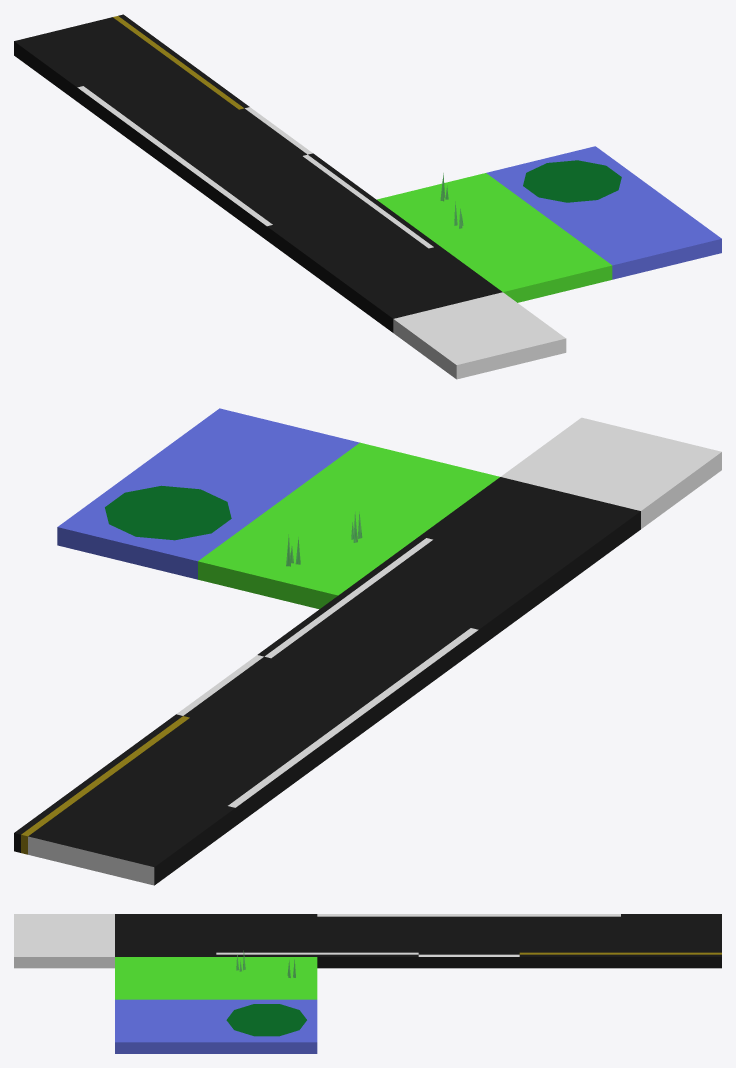
The model's file is meshlib.glb.
The picture shows the model from 3 angles, top to bottom: view 1: azimuth 30°, elevation 25°; view 2: azimuth 150°, elevation 25°; view 3: azimuth 270°, elevation 25°; orthographic projection. The views are drawn at different scales.
Parts seen in each view (by area): view 1: Base, Water, Grass, RoadMiddle2, RoadSideYellow, RoadMiddle, RoadSideWhite, RoadSideWhite2, RoadSideYellow2, GrassGrowth, WaterLilypad; view 2: RoadSideYellow2, WaterLilypad, GrassGrowth, RoadSideYellow, RoadMiddle2, RoadSideWhite2, RoadSideWhite, Base, RoadMiddle, Water, Grass; view 3: RoadSideWhite2, Water, WaterLilypad, RoadMiddle2, RoadSideYellow, Base, RoadSideYellow2, GrassGrowth, RoadMiddle, RoadSideWhite, Grass.
Part boxes in pixels (left/top/right/bottom): Base: left=393, top=292, right=566, bottom=379; Water: left=549, top=192, right=721, bottom=279; Grass: left=440, top=219, right=612, bottom=302; RoadMiddle2: left=140, top=107, right=312, bottom=193; RoadSideYellow: left=77, top=60, right=249, bottom=147; RoadMiddle: left=330, top=246, right=502, bottom=332; RoadSideWhite: left=267, top=199, right=439, bottom=286; RoadSideWhite2: left=203, top=153, right=375, bottom=240; RoadSideYellow2: left=14, top=14, right=186, bottom=101; GrassGrowth: left=377, top=173, right=548, bottom=245; WaterLilypad: left=486, top=146, right=658, bottom=218; RoadSideYellow2: left=14, top=773, right=235, bottom=885; WaterLilypad: left=57, top=467, right=278, bottom=579; GrassGrowth: left=198, top=502, right=418, bottom=609; RoadSideYellow: left=95, top=714, right=316, bottom=825; RoadMiddle2: left=176, top=655, right=397, bottom=766; RoadSideWhite2: left=257, top=595, right=478, bottom=706; RoadSideWhite: left=338, top=536, right=559, bottom=647; Base: left=501, top=417, right=721, bottom=528; RoadMiddle: left=420, top=477, right=640, bottom=588; Water: left=139, top=408, right=359, bottom=501; Grass: left=279, top=442, right=499, bottom=536; RoadSideWhite2: left=317, top=914, right=418, bottom=968; Water: left=115, top=999, right=216, bottom=1053; WaterLilypad: left=216, top=999, right=317, bottom=1053; RoadMiddle2: left=418, top=914, right=519, bottom=968; RoadSideYellow: left=519, top=914, right=620, bottom=968; Base: left=14, top=914, right=114, bottom=968; RoadSideYellow2: left=621, top=914, right=721, bottom=968; GrassGrowth: left=216, top=950, right=317, bottom=999; RoadMiddle: left=115, top=914, right=216, bottom=956; RoadSideWhite: left=216, top=914, right=317, bottom=956; Grass: left=115, top=957, right=216, bottom=999.
Size of the model in its own units: 6 by 0.6882 by 14.
7 materials, 1 textured.
